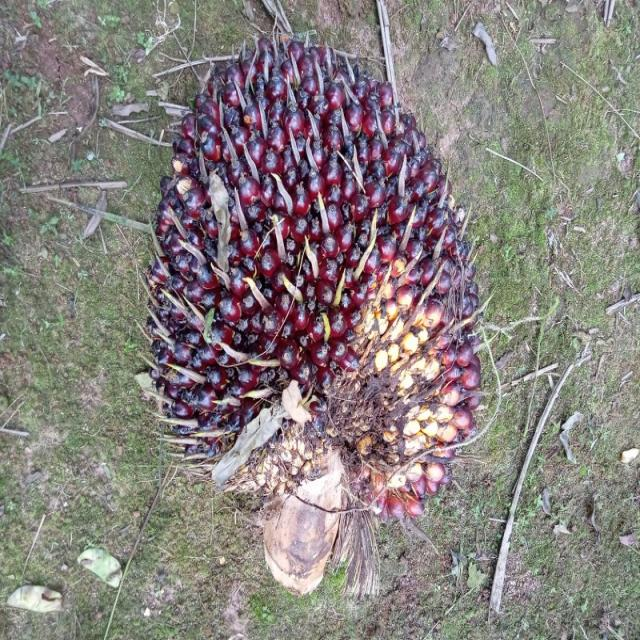fraksi 1: (94, 7, 552, 569)
